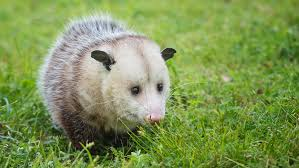opossum: (35, 14, 178, 149)
